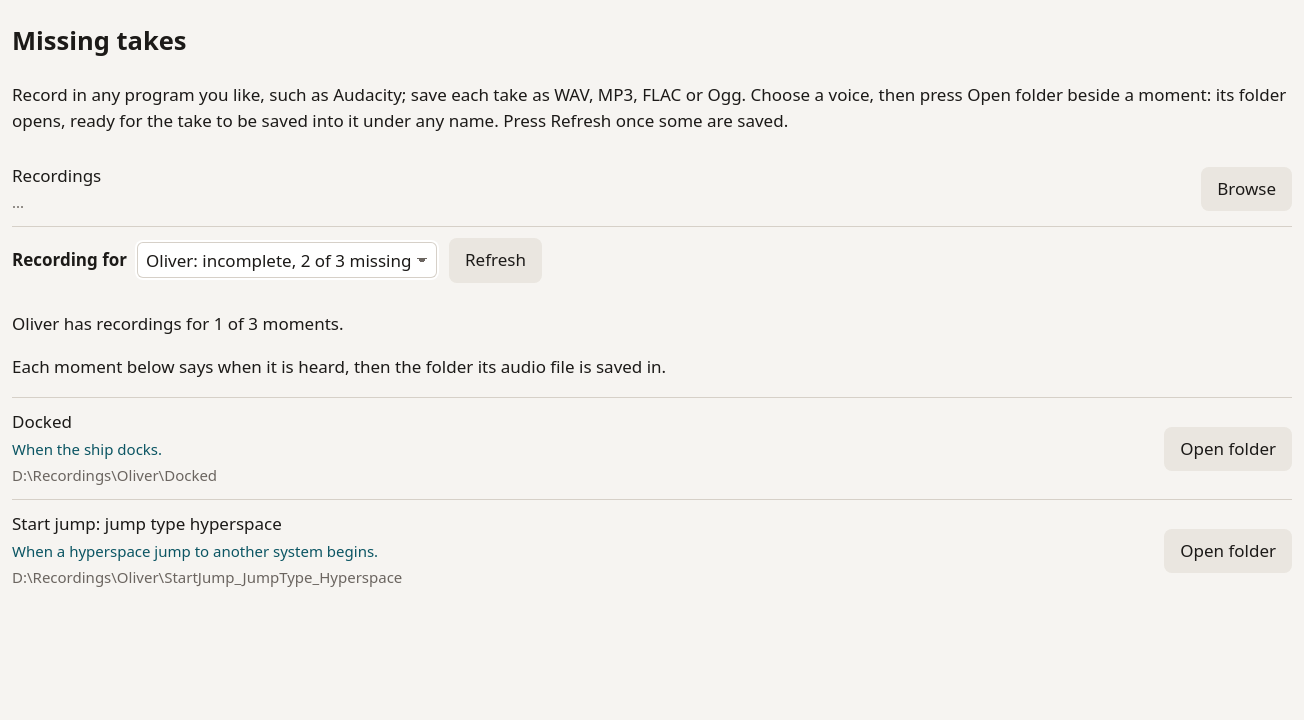
Test: the missing takes pane › keeps the voice chosen across a look
Select "Hugo: incomplete, 3 of 3 missing" in the dropdown at (287, 260), box 135,240 -> 439,280
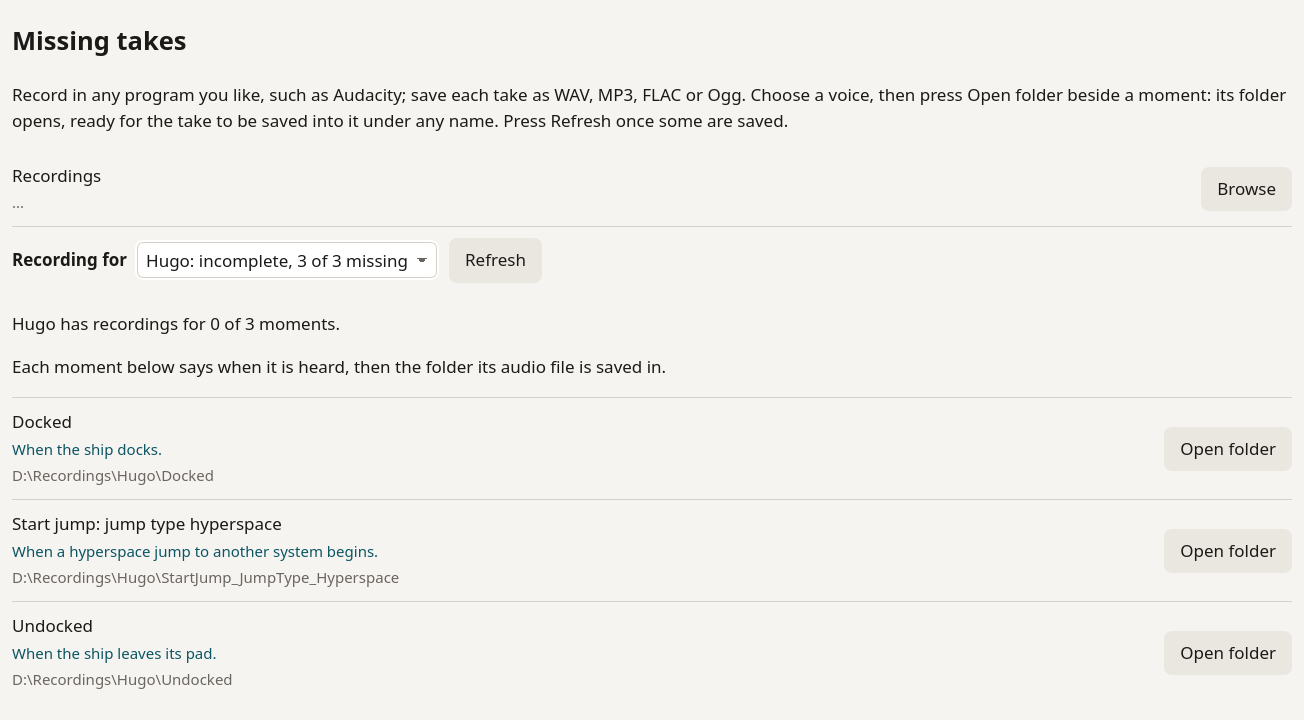
Check: the text "Hugo has recordings for 0 of 3 moments." is shown, box 12,312 -> 340,334
Click the button "Refresh".
click(495, 260)  # box 449,238 -> 542,282
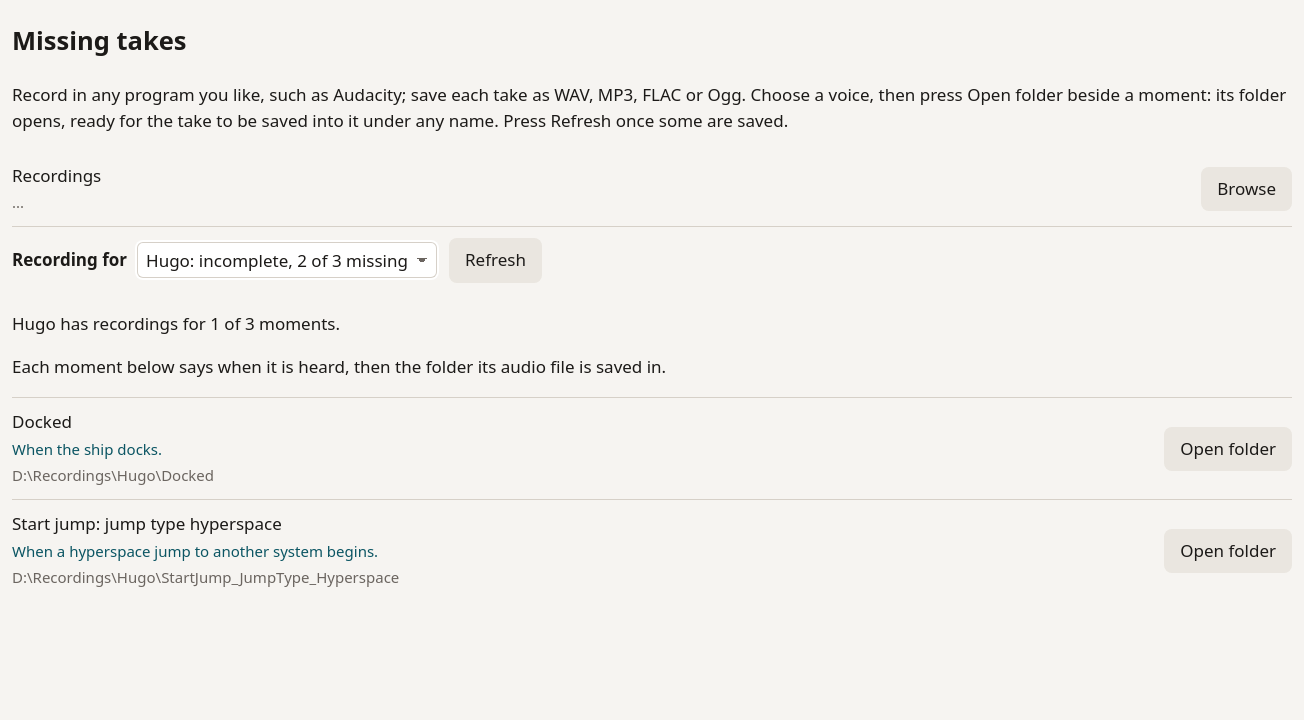
Check: the text "Hugo has recordings for 1 of 3 moments." is shown, box 12,312 -> 340,334
